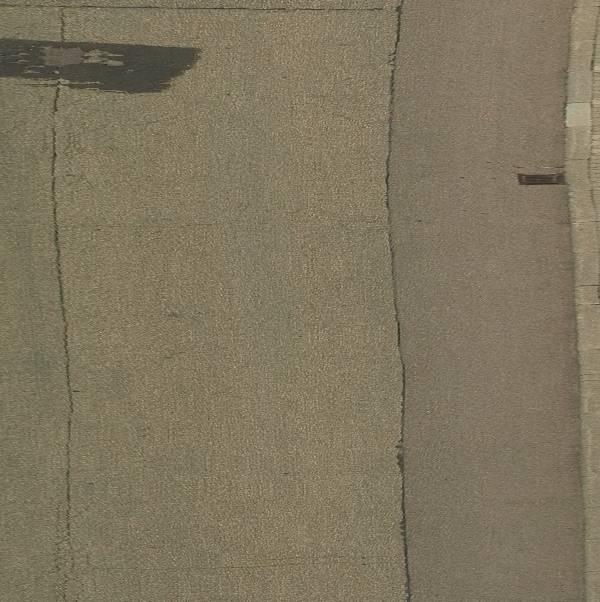road_damage: (31, 1, 415, 29)
